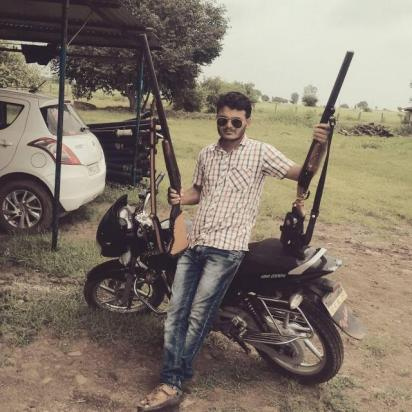Gun: (277, 48, 356, 262), (136, 32, 192, 258)
